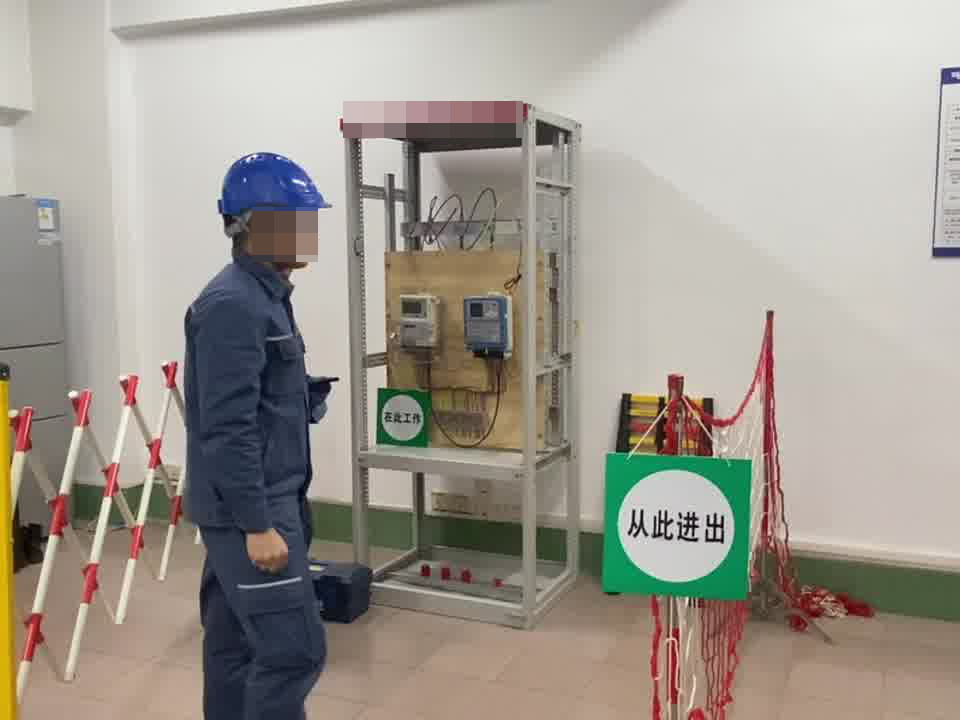downsuit: (197, 540, 322, 720)
halt: (215, 152, 331, 269)
hand: (238, 525, 301, 575)
inear: (236, 208, 286, 257)
intosign: (601, 447, 750, 599)
person: (169, 147, 361, 720)
upsuit: (182, 269, 318, 512)
worksign: (377, 389, 426, 451)
